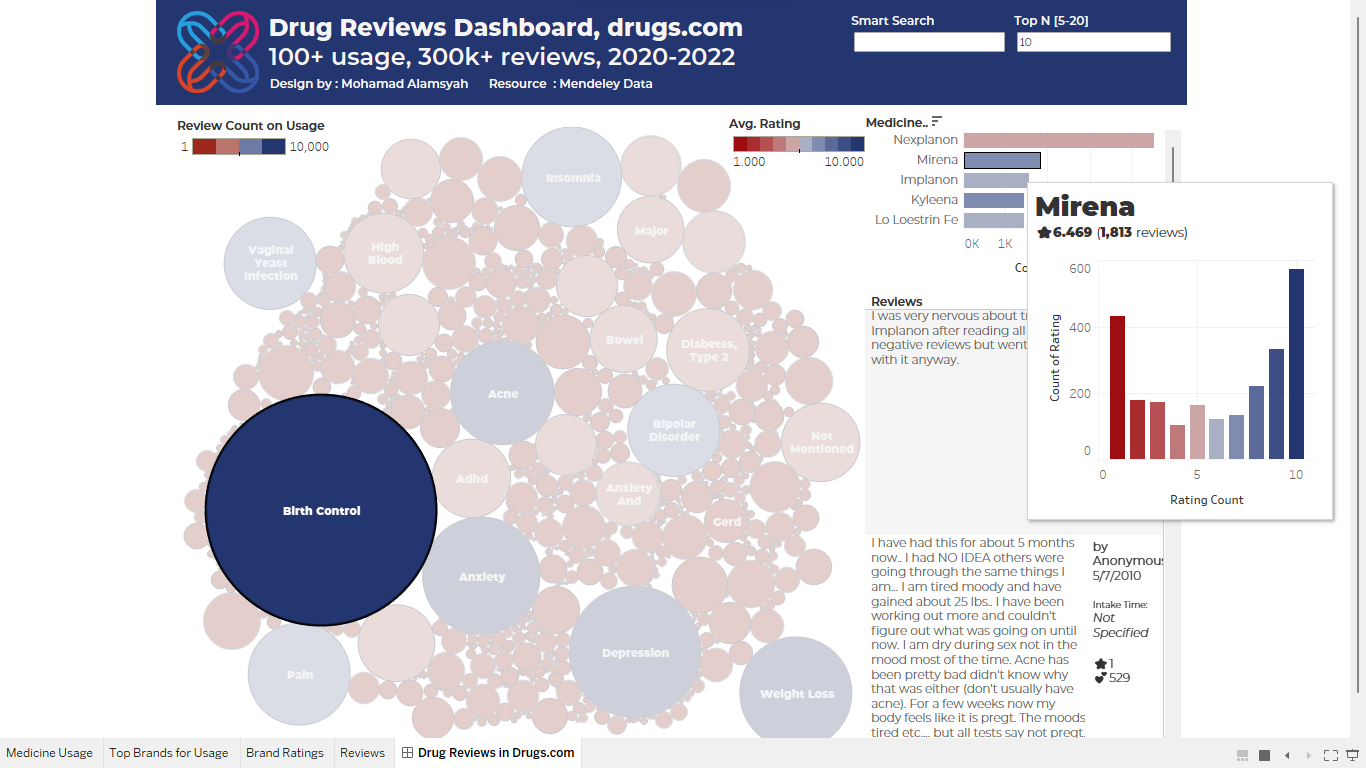

The dashboard page shown, as its layout file describes it:
{"tool":"tableau","page":{"name":"drug-reviews-bigquery","canvas":[1000,800],"ordinal":0},"visuals":[{"type":"text","box":[92,10,523,68]},{"type":"image","param":"C:/Users/acer/Downloads/PROJECTS-2.0/DrugReviews/drugscom-logomark-112x112.png","box":[11,14,78,83]},{"type":"parameter","param":"[Parameters].[Parameter 2]","box":[807,14,159,67]},{"type":"parameter","param":"[Parameters].[Parameter 1]","box":[619,15,151,44]},{"type":"text","box":[620,56,180,45]},{"type":"text","box":[819,62,134,33]},{"type":"text","box":[93,68,440,32]},{"type":"worksheet","title":"Top Brands by Usage","mark":"Automatic","rows":["MedicineBrandName"],"cols":["Reviews"],"box":[605,100,388,215]},{"type":"legend","title":"Medicine Usage","param":"[federated.18pzkps1q4mk2b1e8keax0oiqh2z].[cnt:MedicineUsedFor:qk]","box":[18,115,168,76]},{"type":"legend","title":"Top Brands by Usage","param":"[federated.18pzkps1q4mk2b1e8keax0oiqh2z].[avg:Rating:qk]","box":[357,117,233,76]},{"type":"worksheet","title":"Medicine Usage","mark":"Circle","box":[10,176,591,608]},{"type":"worksheet","title":"Top Generics by Usage","mark":"Automatic","rows":["MedicineGenericName"],"cols":["Reviews"],"box":[606,305,387,214]},{"type":"text","box":[608,525,384,47]},{"type":"worksheet","title":"Reviews","mark":"Automatic","rows":["Reviews"],"box":[605,556,388,234]}]}

Visuals, with their boxes on the page's 1000x800 design canvas (x1, y1, x2, y2). These are canvas units, not pixel positions in the 1366x768 screenshot, which may show the page scaled, cropped or inside an application window:
text: [92, 10, 615, 78]
image: [11, 14, 89, 97]
parameter: [807, 14, 966, 81]
parameter: [619, 15, 770, 59]
text: [620, 56, 800, 101]
text: [819, 62, 953, 95]
text: [93, 68, 533, 100]
"Top Brands by Usage" worksheet: [605, 100, 993, 315]
"Medicine Usage" legend: [18, 115, 186, 191]
"Top Brands by Usage" legend: [357, 117, 590, 193]
"Medicine Usage" worksheet (Circle marks): [10, 176, 601, 784]
"Top Generics by Usage" worksheet: [606, 305, 993, 519]
text: [608, 525, 992, 572]
"Reviews" worksheet: [605, 556, 993, 790]
